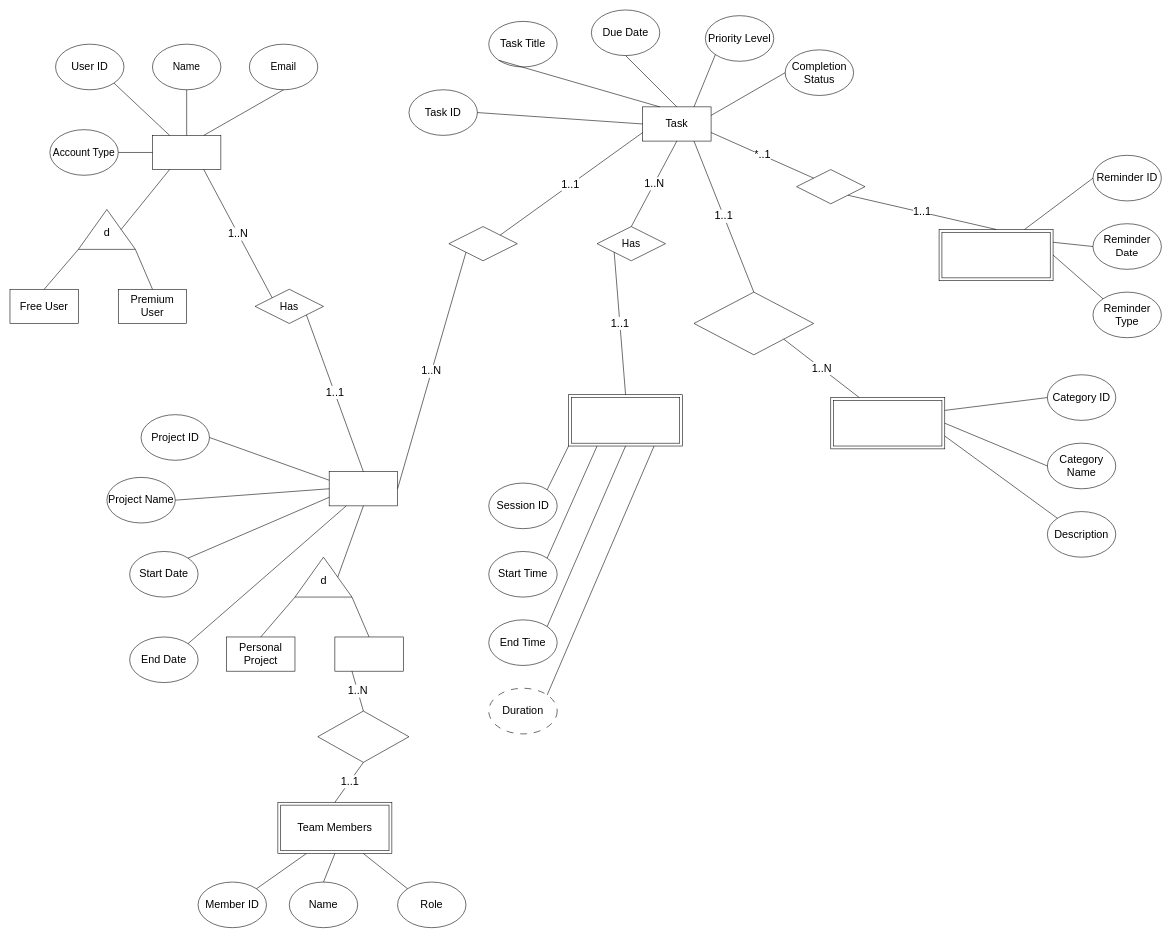
The diagram is 1171 pixels wide and 938 high, and some of its shapes have lost their labels. The centre of each missing label's shape, as x and y in pixels:
Associate: (830,186)
Category: (887,423)
Classify: (753,323)
Collaborate: (363,736)
Contain: (482,243)
Project: (363,488)
Reminder: (996,255)
Team Project: (368,653)
User: (186,152)
Work Session: (625,420)
